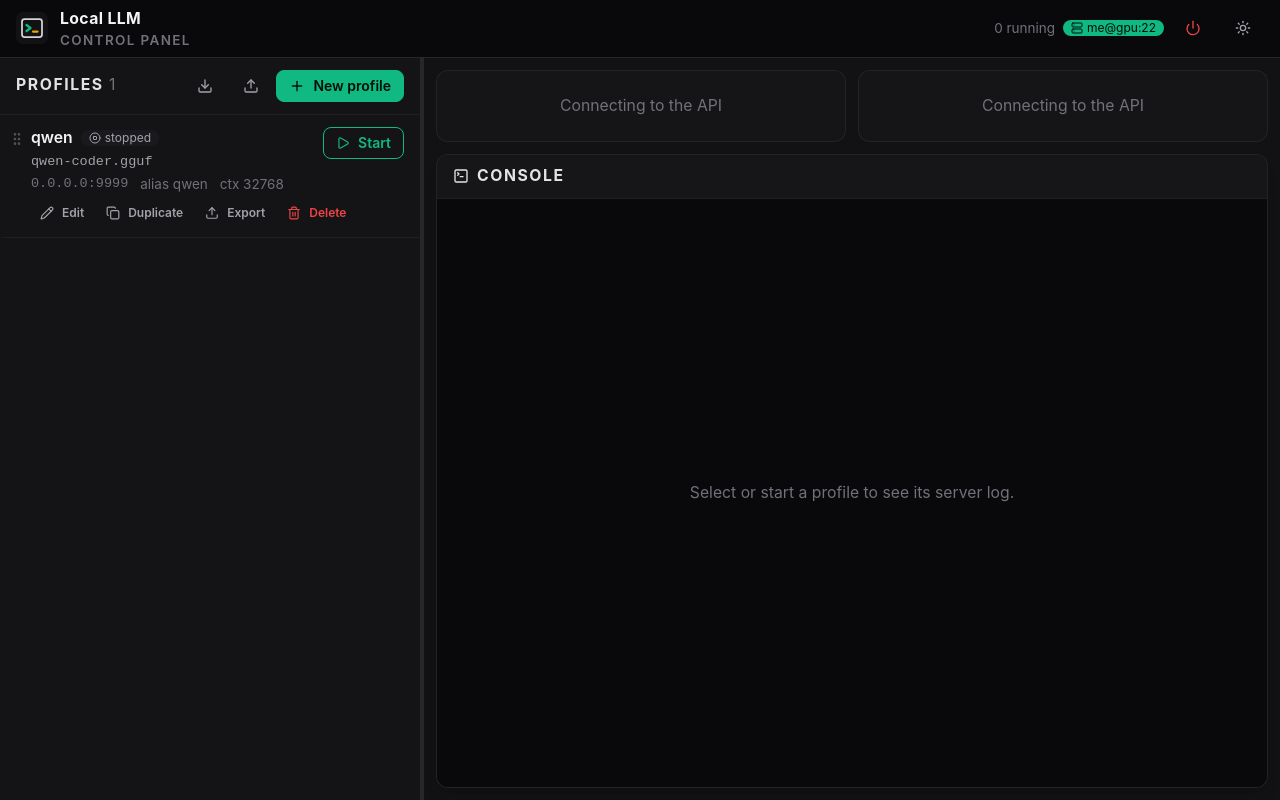
Test: App › shows the backend error when a start is refused
Step 1. Click the button "Start" → x=364, y=142, box [323, 126, 404, 158]
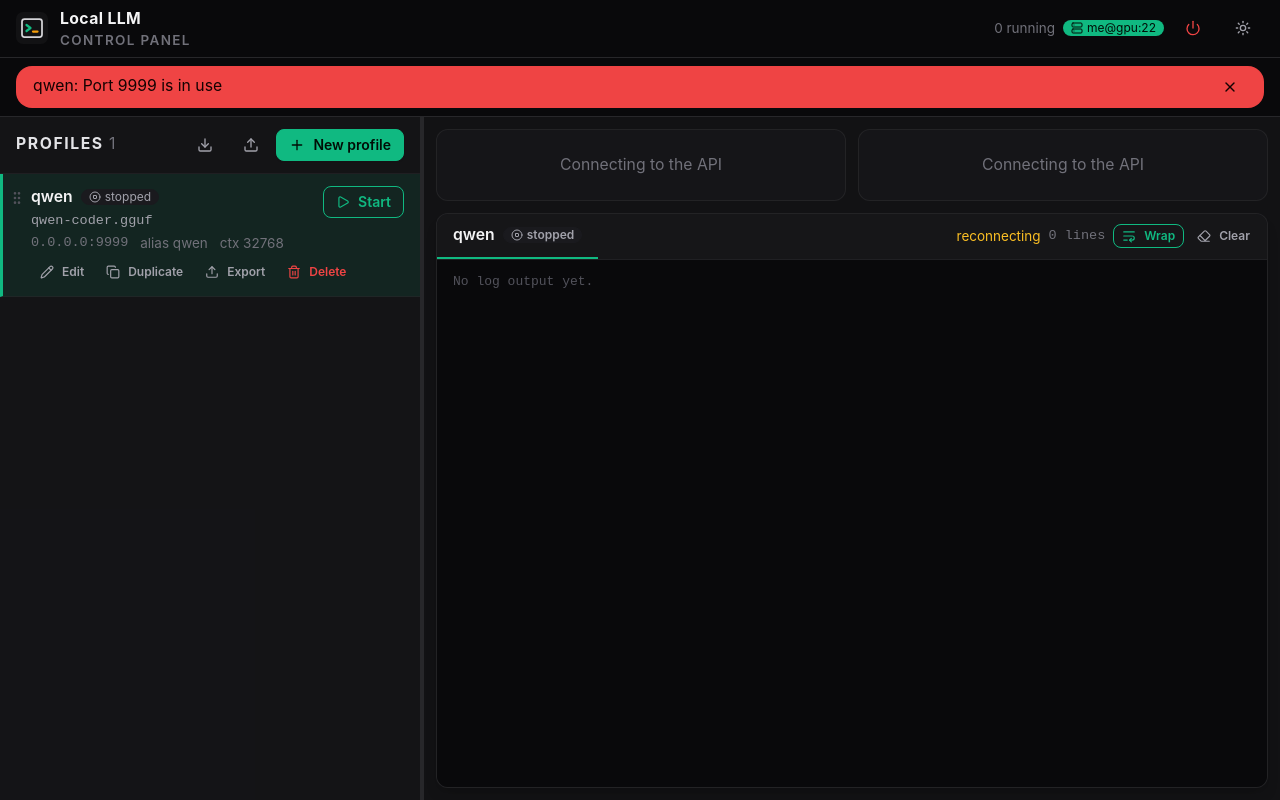
Check: the message reads "qwen: Port 9999 is in use", box [33, 76, 222, 95]
